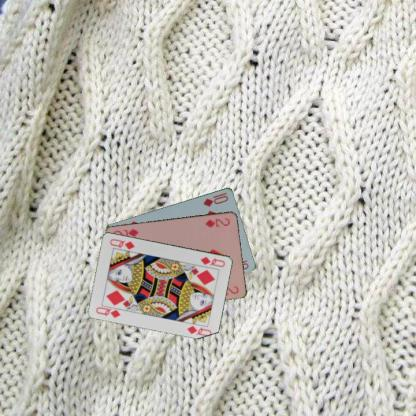10d: (201, 190, 230, 209)
2d: (203, 216, 231, 228)
Qd: (94, 302, 124, 319), (198, 254, 227, 268)
